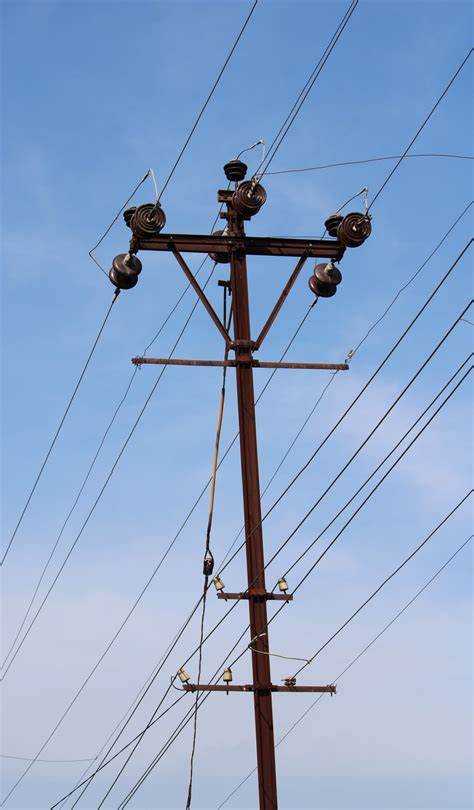pole: (99, 162, 391, 802)
